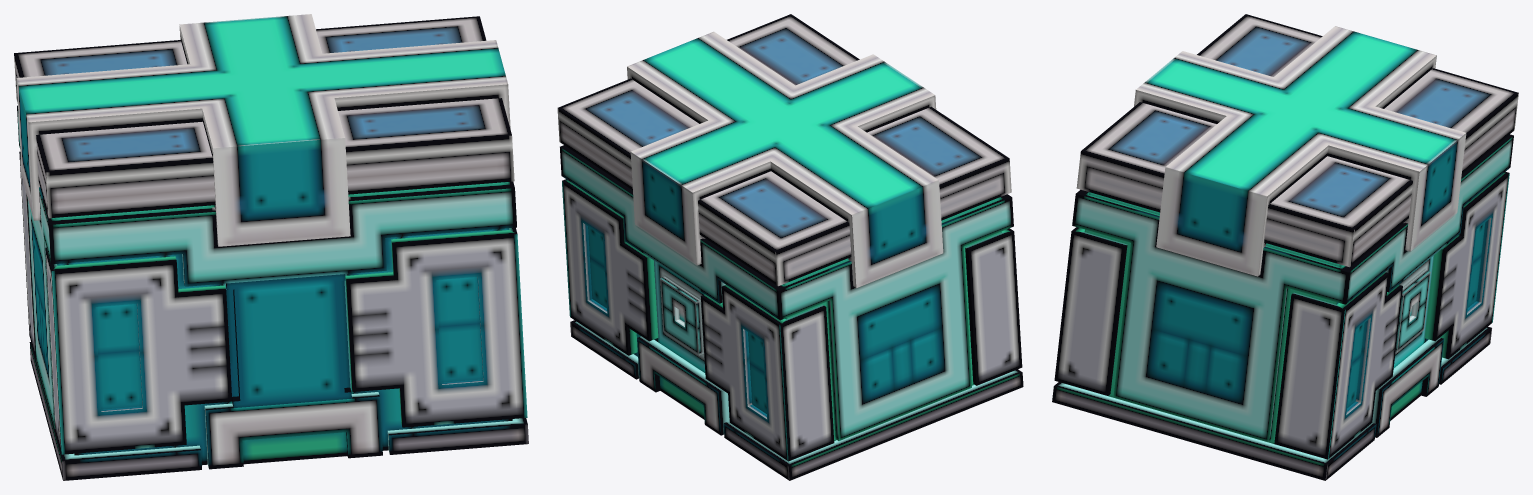
Rendered from event_chest_1 #421081.fbx.
The picture shows the model from 3 angles, left to right: view 1: azimuth 30°, elevation 25°; view 2: azimuth 150°, elevation 25°; view 3: azimuth 270°, elevation 25°; orthographic projection. The views are drawn at different scales.
Visible parts, largest first — view 1: event_chest_1, lid_event_chest_1_mesh; view 2: event_chest_1, lid_event_chest_1_mesh; view 3: event_chest_1, lid_event_chest_1_mesh.
Boxes of the visible parts, x1,y1,x2,y2 form: event_chest_1: (17, 105, 528, 480); lid_event_chest_1_mesh: (14, 14, 514, 246); event_chest_1: (560, 145, 1023, 480); lid_event_chest_1_mesh: (557, 14, 1011, 287); event_chest_1: (1052, 134, 1513, 480); lid_event_chest_1_mesh: (1076, 14, 1518, 276).
Size of the model in its own units: 160 by 108 by 153.
